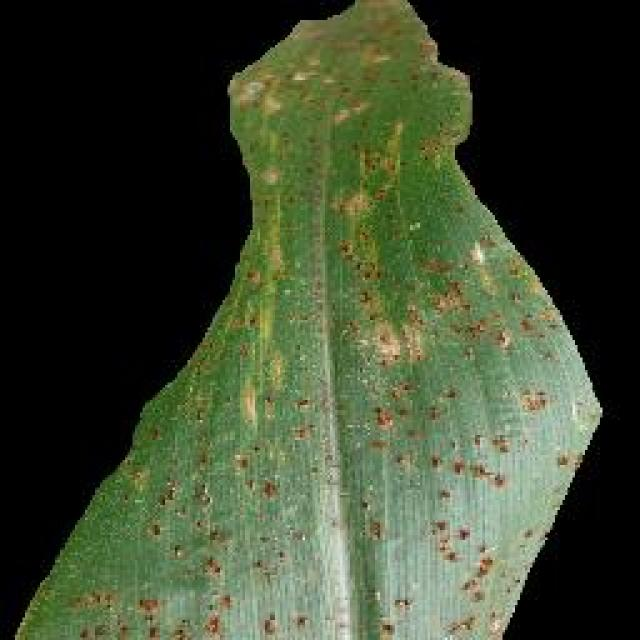Corn Common Rust: (241, 116, 535, 640)
